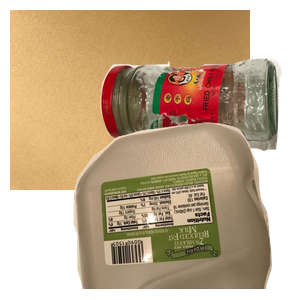cardboard: (10, 10, 250, 190)
glass: (98, 56, 300, 201)
plastic: (71, 120, 300, 300)
trash: (104, 152, 280, 300)
